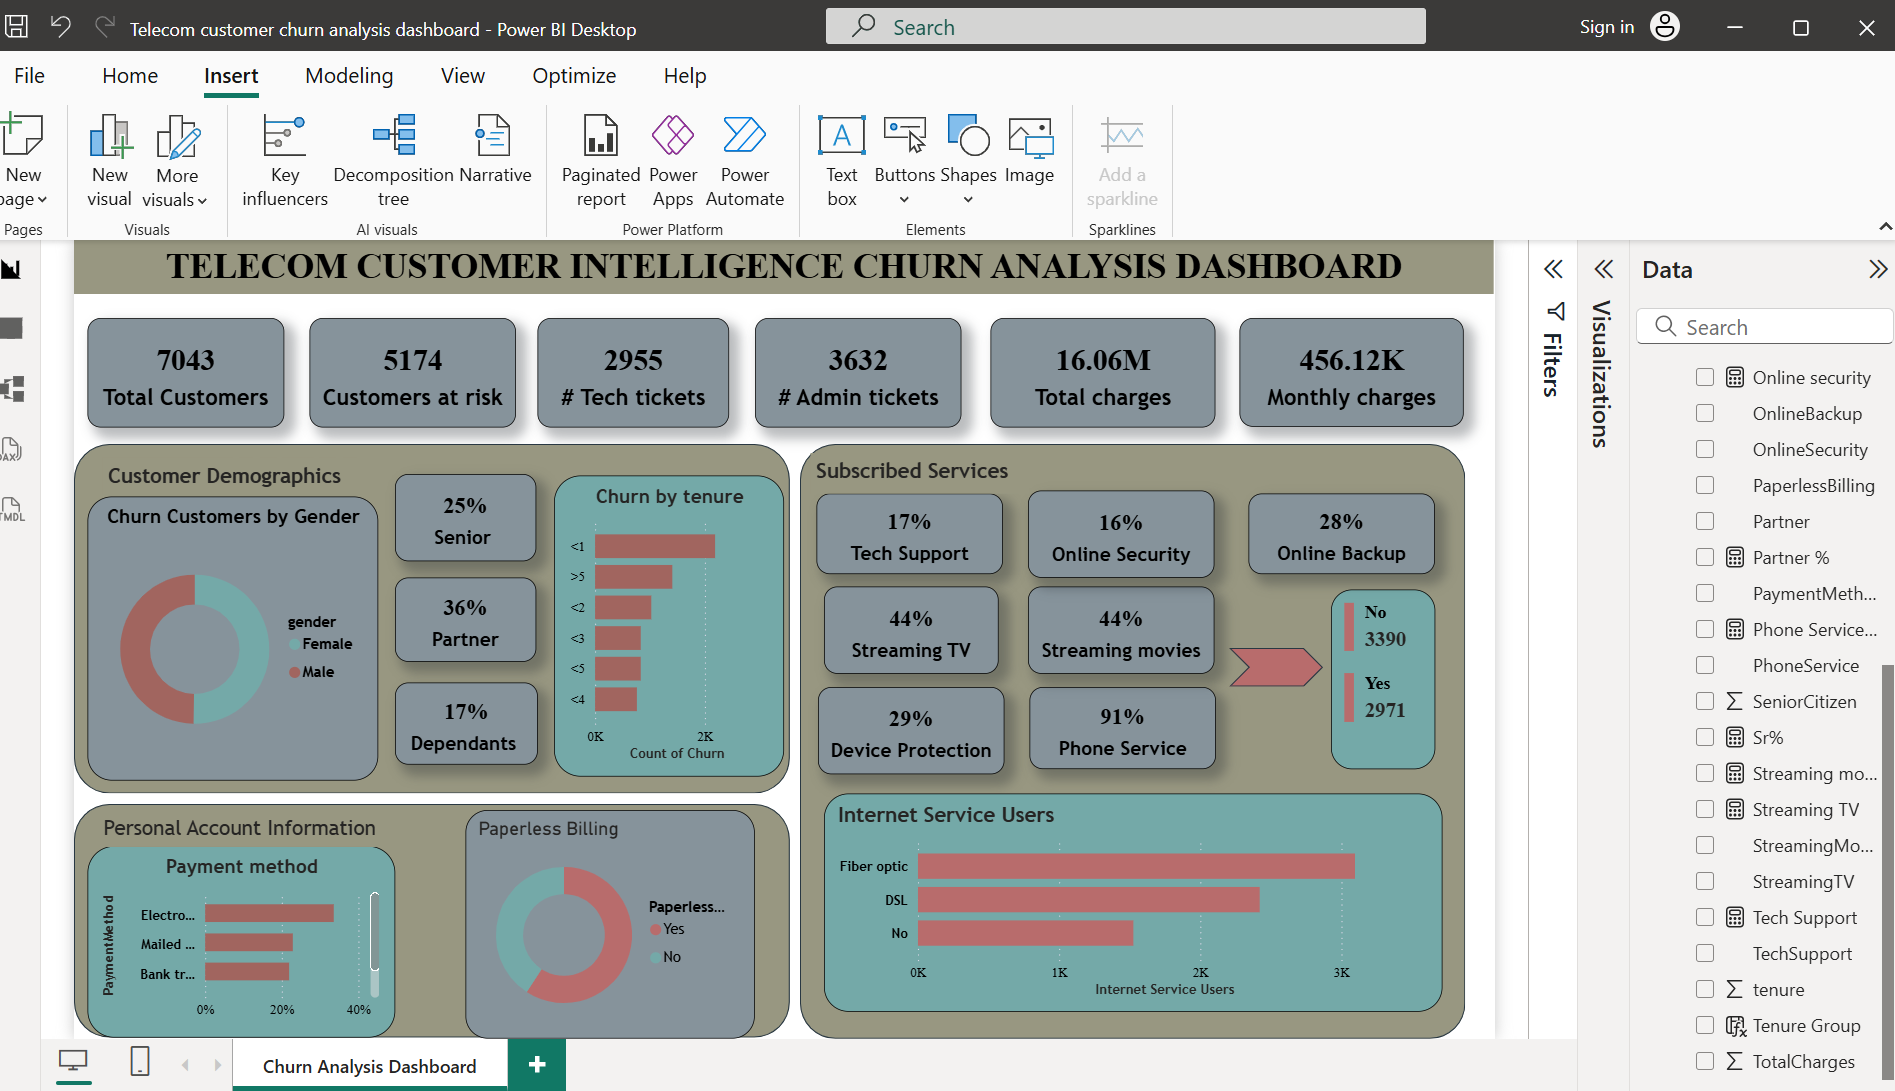

What the dashboard file says about the page in this screenshot:
{"tool":"powerbi","page":{"name":"Churn Analysis Dashboard","canvas":[1280,720],"ordinal":0},"visuals":[{"type":"card","fields":{"Values":["Count(01 Churn-Dataset.customerID)"]},"box":[12.1,69.7,177.2,98.4],"z":0},{"type":"textbox","box":[0,0,1279.5,48.5],"z":1000},{"type":"card","fields":{"Values":["Count(01 Churn-Dataset.customerID)"]},"box":[212,69.7,186.2,98.4],"z":2000},{"type":"card","fields":{"Values":["Sum(01 Churn-Dataset.numTechTickets)"]},"box":[417.9,69.7,172.6,98.4],"z":3000},{"type":"card","fields":{"Values":["Sum(01 Churn-Dataset.numAdminTickets)"]},"box":[613.3,69.7,186.2,98.4],"z":4000},{"type":"card","fields":{"Values":["Sum(01 Churn-Dataset.MonthlyCharges)"]},"box":[1050.7,69.9,202.2,98.3],"z":5000},{"type":"card","fields":{"Values":["Sum(01 Churn-Dataset.TotalCharges)"]},"box":[825.2,69.7,202.9,98.4],"z":6000},{"type":"shape","title":"Customer Demographics","box":[0,183.2,645.1,315],"z":7000},{"type":"donutChart","title":"Churn Customers by Gender","fields":{"Category":["01 Churn-Dataset.gender"],"Y":["CountNonNull(01 Churn-Dataset.Churn)"]},"box":[12.1,231.7,262,255.9],"z":8000},{"type":"card","fields":{"Values":["01 Churn-Dataset.Sr%"]},"box":[289.2,210.5,127.2,78.7],"z":9000},{"type":"card","fields":{"Values":["01 Churn-Dataset.Partner %"]},"box":[289.2,304.4,127.2,75.7],"z":10000},{"type":"card","fields":{"Values":["01 Churn-Dataset.Dependants %"]},"box":[289.2,398.2,128.7,74.2],"z":11000},{"type":"clusteredBarChart","title":"Churn by tenure","fields":{"Y":["CountNonNull(01 Churn-Dataset.Churn)"],"Category":["01 Churn-Dataset.Tenure Group"]},"box":[433.1,212,207.4,271],"z":12000},{"type":"shape","title":"Customer Demographics","box":[654.1,183.2,599.6,536],"z":13000},{"type":"card","fields":{"Values":["01 Churn-Dataset.Phone Service %"]},"box":[861.6,402.8,168.1,74.2],"z":14000},{"type":"card","fields":{"Values":["01 Churn-Dataset.Streaming movies"]},"box":[860.1,311.9,168.1,78.7],"z":15000},{"type":"card","fields":{"Values":["01 Churn-Dataset.Tech Support"]},"box":[669.3,228.6,168.1,72.7],"z":16000},{"type":"card","fields":{"Values":["01 Churn-Dataset.Streaming TV"]},"box":[675.3,311.9,157.5,78.7],"z":17000},{"type":"card","fields":{"Values":["01 Churn-Dataset.Online security"]},"box":[860.1,225.6,168.1,78.7],"z":18000},{"type":"card","fields":{"Values":["01 Churn-Dataset.Device Protection"]},"box":[670.8,402.8,168.1,78.7],"z":19000},{"type":"multiRowCard","fields":{"Values":["01 Churn-Dataset.MultipleLines","01 Churn-Dataset.customerID"]},"box":[1132.6,315,93.9,162],"z":20000},{"type":"card","fields":{"Values":["01 Churn-Dataset.Online Backup"]},"box":[1058.4,228.6,168.1,72.7],"z":21000},{"type":"textbox","box":[25.7,195.3,234.7,33.3],"z":22000},{"type":"shape","box":[1040.3,368,84.8,34.8],"z":23000},{"type":"textbox","box":[663.2,192.3,196.8,36.3],"z":24000},{"type":"clusteredBarChart","title":"Internet Service Users ","fields":{"Category":["01 Churn-Dataset.InternetService"],"Y":["CountNonNull(01 Churn-Dataset.InternetService)"]},"box":[675.3,498.2,557.2,196.8],"z":25000},{"type":"shape","title":"Customer Demographics","box":[0,508.8,645.1,210.5],"z":26000},{"type":"clusteredBarChart","title":"Payment method","fields":{"Category":["01 Churn-Dataset.PaymentMethod"],"Y":["CountNonNull(01 Churn-Dataset.PaymentMethod)"]},"box":[12.1,546.6,277.1,172.6],"z":26001},{"type":"textbox","box":[21.2,513.3,260.4,33.3],"z":26002},{"type":"donutChart","title":"Paperless Billing","fields":{"Category":["01 Churn-Dataset.PaperlessBilling"],"Y":["CountNonNull(01 Churn-Dataset.PaperlessBilling)"]},"box":[352.8,513.3,260.4,205.9],"z":26003}]}

Visuals, with their boxes on the page's 1280x720 design canvas (x1, y1, x2, y2). These are canvas units, not pixel positions in the 1895x1091 screenshot, which may show the page scaled, cropped or inside an application window:
card - Count(01 Churn-Dataset.customerID): [12, 70, 189, 168]
textbox: [0, 0, 1280, 48]
card - Count(01 Churn-Dataset.customerID): [212, 70, 398, 168]
card - Sum(01 Churn-Dataset.numTechTickets): [418, 70, 590, 168]
card - Sum(01 Churn-Dataset.numAdminTickets): [613, 70, 800, 168]
card - Sum(01 Churn-Dataset.MonthlyCharges): [1051, 70, 1253, 168]
card - Sum(01 Churn-Dataset.TotalCharges): [825, 70, 1028, 168]
"Customer Demographics" shape: [0, 183, 645, 498]
"Churn Customers by Gender" donutChart: [12, 232, 274, 488]
card - 01 Churn-Dataset.Sr%: [289, 210, 416, 289]
card - 01 Churn-Dataset.Partner %: [289, 304, 416, 380]
card - 01 Churn-Dataset.Dependants %: [289, 398, 418, 472]
"Churn by tenure" clusteredBarChart: [433, 212, 640, 483]
"Customer Demographics" shape: [654, 183, 1254, 719]
card - 01 Churn-Dataset.Phone Service %: [862, 403, 1030, 477]
card - 01 Churn-Dataset.Streaming movies: [860, 312, 1028, 391]
card - 01 Churn-Dataset.Tech Support: [669, 229, 837, 301]
card - 01 Churn-Dataset.Streaming TV: [675, 312, 833, 391]
card - 01 Churn-Dataset.Online security: [860, 226, 1028, 304]
card - 01 Churn-Dataset.Device Protection: [671, 403, 839, 482]
multiRowCard - 01 Churn-Dataset.MultipleLines x 01 Churn-Dataset.customerID: [1133, 315, 1226, 477]
card - 01 Churn-Dataset.Online Backup: [1058, 229, 1226, 301]
textbox: [26, 195, 260, 229]
shape: [1040, 368, 1125, 403]
textbox: [663, 192, 860, 229]
"Internet Service Users " clusteredBarChart: [675, 498, 1232, 695]
"Customer Demographics" shape: [0, 509, 645, 719]
"Payment method" clusteredBarChart: [12, 547, 289, 719]
textbox: [21, 513, 282, 547]
"Paperless Billing" donutChart: [353, 513, 613, 719]
